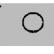no answer: (22, 10, 44, 34)
